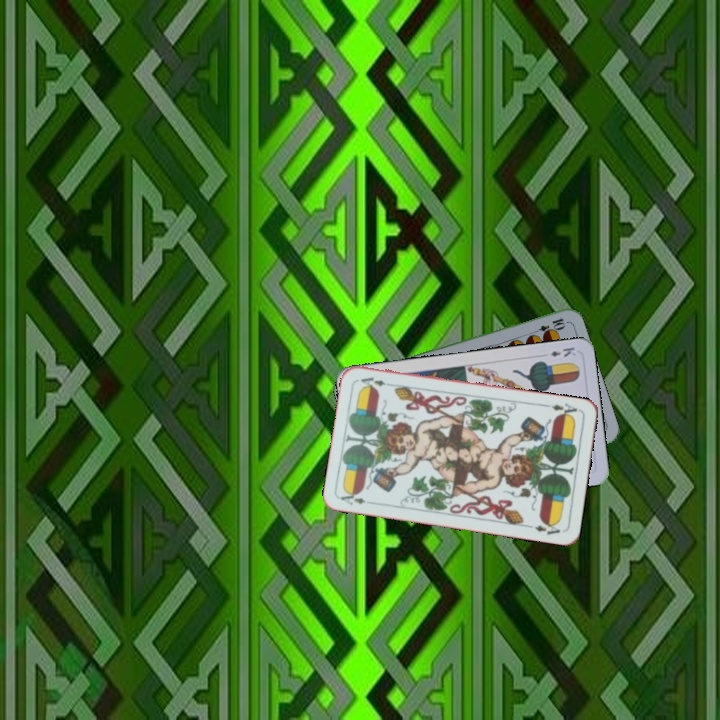E10: (528, 314, 568, 338)
EA: (542, 399, 582, 420), (337, 488, 377, 508)
EK: (546, 343, 578, 359)
